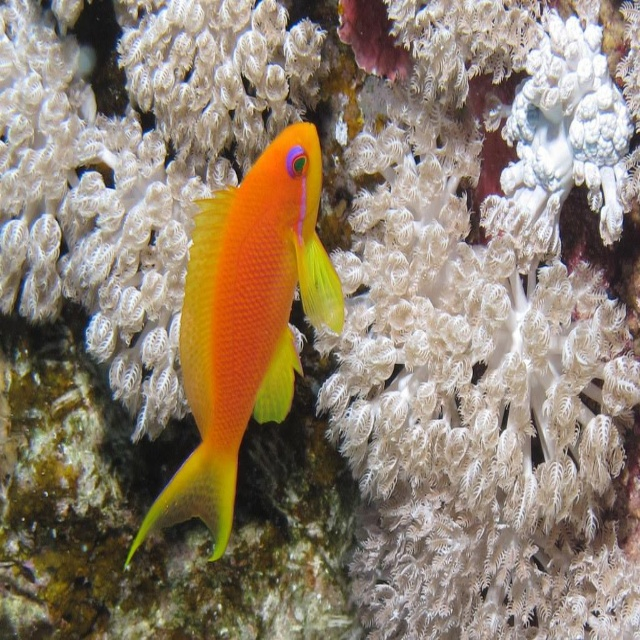Fish: (123, 123, 348, 560)
